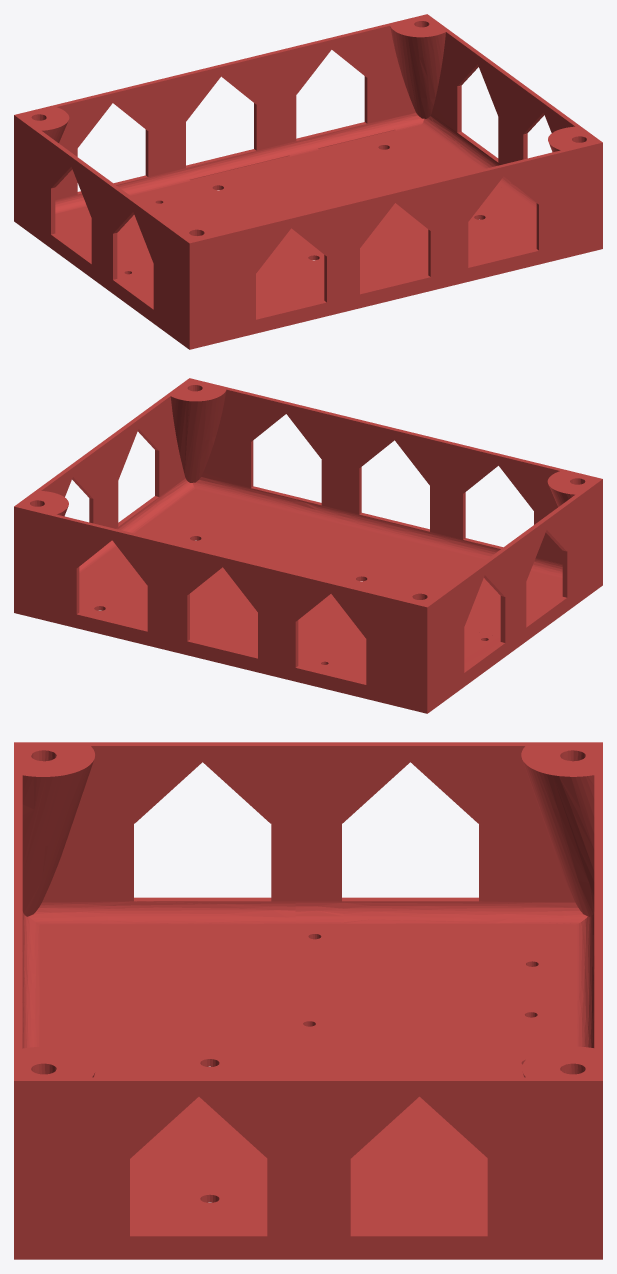
Rendered from CaixaPrincipal.glb.
The picture shows the model from 3 angles, top to bottom: view 1: azimuth 30°, elevation 25°; view 2: azimuth 150°, elevation 25°; view 3: azimuth 270°, elevation 25°; orthographic projection. The views are drawn at different scales.
Parts seen in each view (by area): view 1: Mesh_0; view 2: Mesh_0; view 3: Mesh_0.
Part boxes in pixels (x1=…): Mesh_0: x1=14, y1=14, x2=602, y2=349; Mesh_0: x1=14, y1=378, x2=602, y2=713; Mesh_0: x1=14, y1=742, x2=602, y2=1259.
Bounding box in the file's own units: 187 × 46 × 137.
